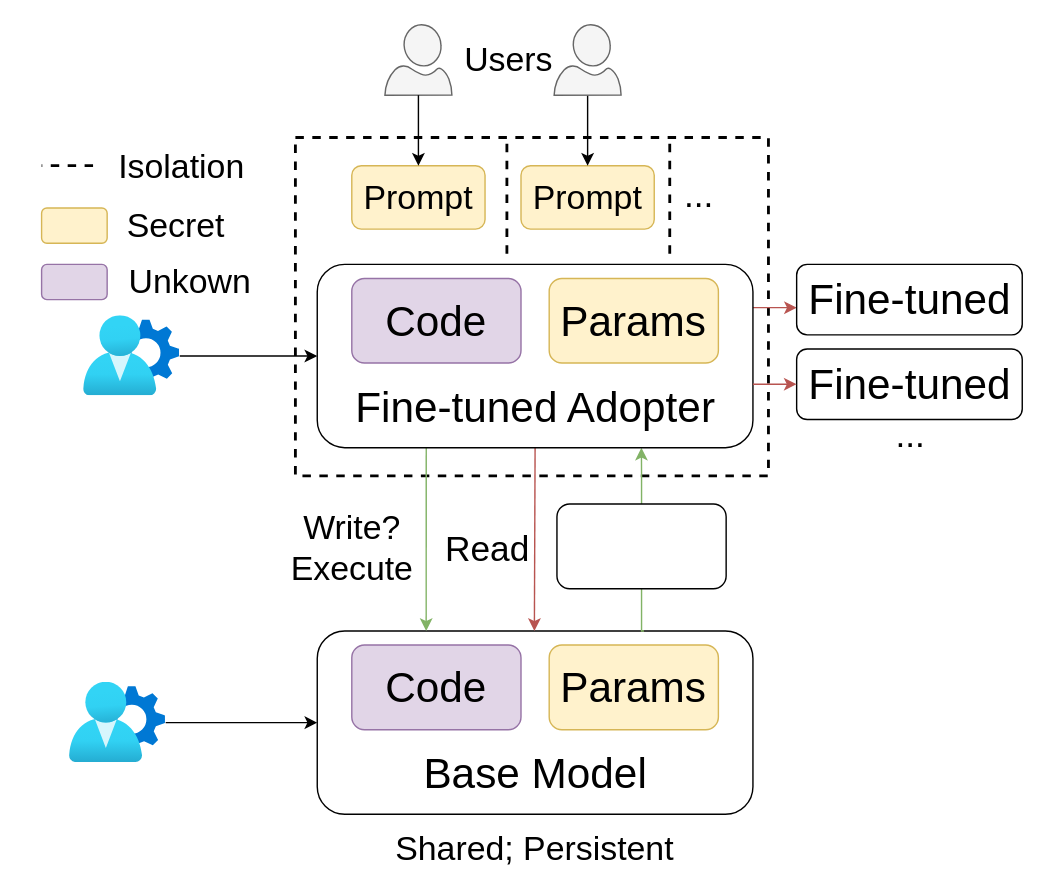
This 1046x895 diagram has some shape labels left out. The centre of each missing label's shape, as x and y in pixels:
AI Service Provider: (x=131, y=355)
Base Model Owner: (x=117, y=722)
Interm. Result: (x=641, y=546)
